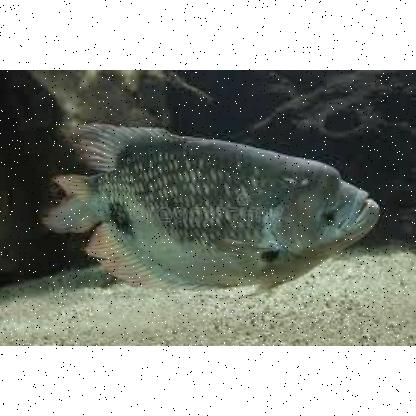gurame: (62, 122, 378, 298)
